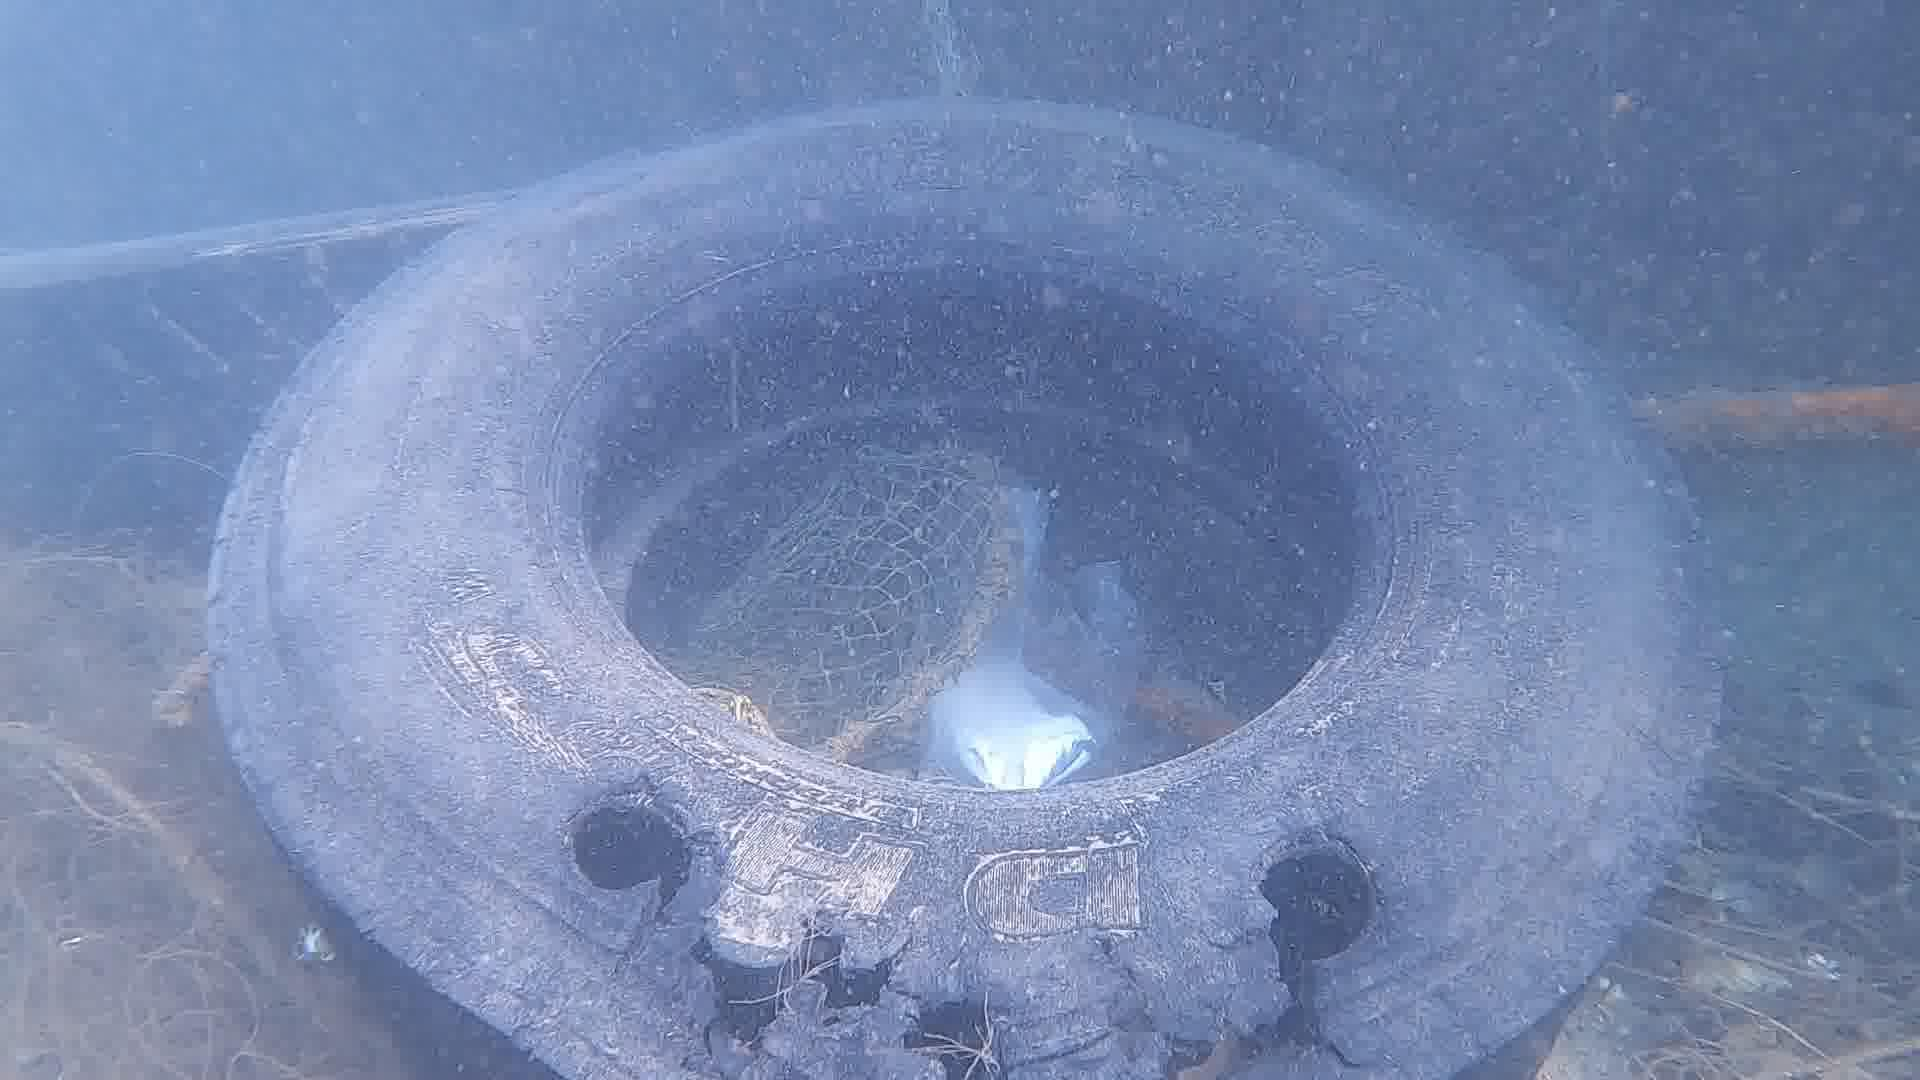fish net: (724, 440, 997, 688)
tire: (204, 88, 1727, 1080)
